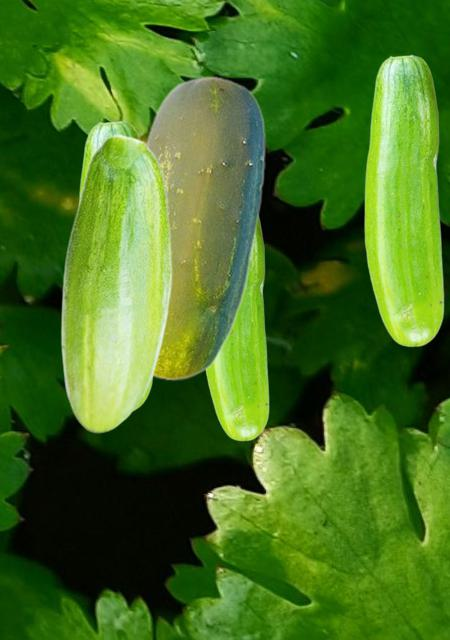cucumber: (144, 75, 264, 380), (60, 134, 171, 432), (364, 54, 443, 346), (78, 120, 152, 411), (205, 218, 268, 440)
